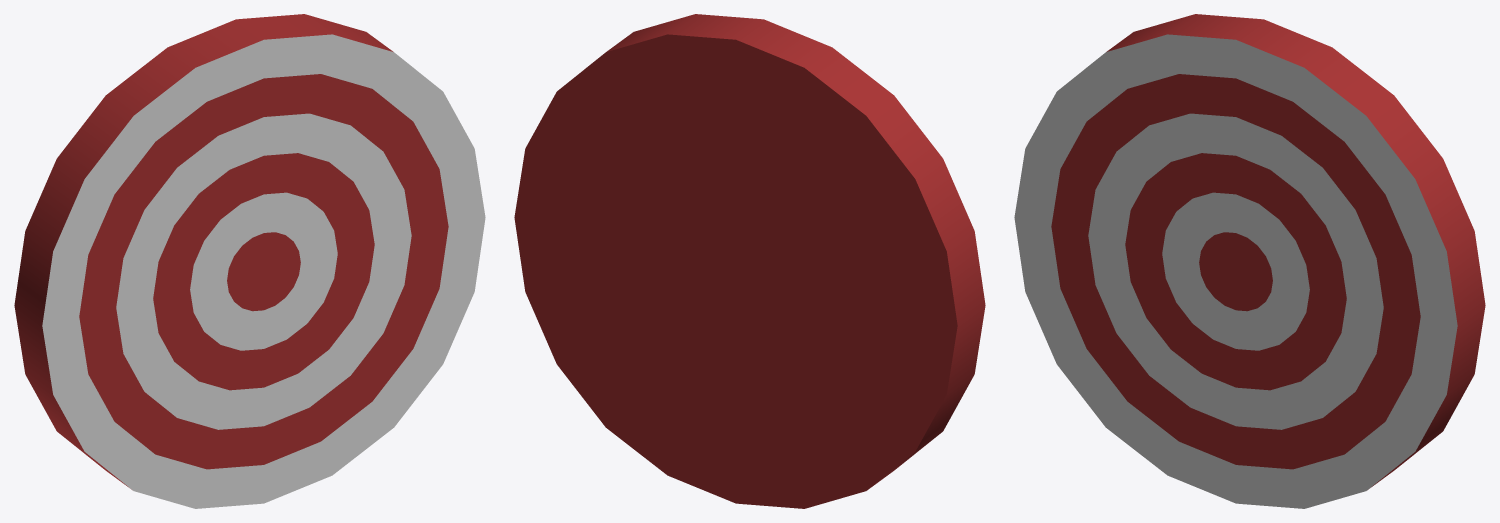
The model's file is Target.fbx.
3 renders of one model, left to right at view 1: azimuth 30°, elevation 25°; view 2: azimuth 150°, elevation 25°; view 3: azimuth 330°, elevation 25°, orthographic.
Visible parts, largest first — view 1: Target; view 2: Target; view 3: Target.
Boxes of the visible parts, x1,y1,x2,y2 form: Target: [14, 14, 485, 508]; Target: [514, 14, 985, 508]; Target: [1014, 14, 1485, 508].
Size of the model in its own units: 2 by 2 by 0.2179.
